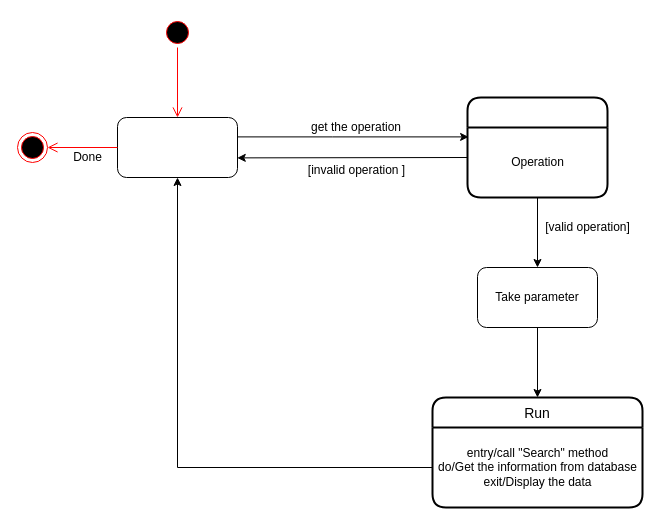
Image size: 661x526. Some labels were removed from this diagram. Each missing label, with the box of its shape:
idle: (116, 116, 238, 178)
Verification: (466, 96, 608, 198)
